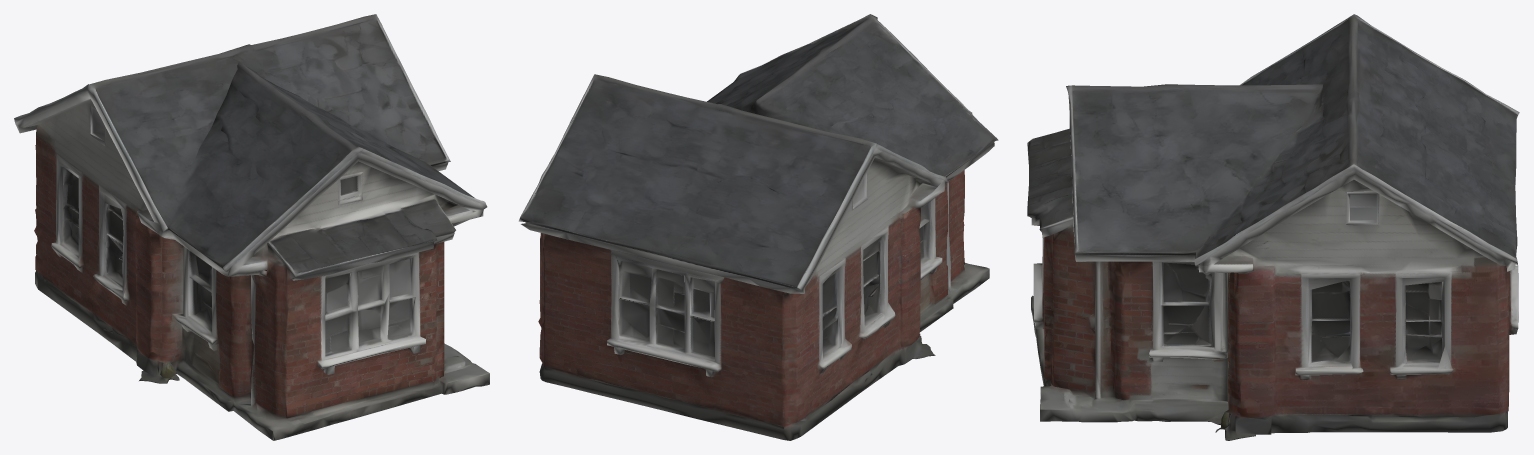
Rendered from house.glb.
The picture shows the model from 3 angles, left to right: view 1: azimuth 30°, elevation 25°; view 2: azimuth 150°, elevation 25°; view 3: azimuth 270°, elevation 25°; orthographic projection. The views are drawn at different scales.
Parts seen in each view (by area): view 1: tripo_node_47b78b4e-6814-44c7-b33e-1e8a16329d52; view 2: tripo_node_47b78b4e-6814-44c7-b33e-1e8a16329d52; view 3: tripo_node_47b78b4e-6814-44c7-b33e-1e8a16329d52.
Part boxes in pixels (x1,y1,x2,y2): tripo_node_47b78b4e-6814-44c7-b33e-1e8a16329d52: (14,14,489,440); tripo_node_47b78b4e-6814-44c7-b33e-1e8a16329d52: (518,14,998,440); tripo_node_47b78b4e-6814-44c7-b33e-1e8a16329d52: (1027,14,1519,440).
Bounding box in the file's own units: 0.7507 × 0.617 × 1.
Materials: 1 (1 with a texture image).
